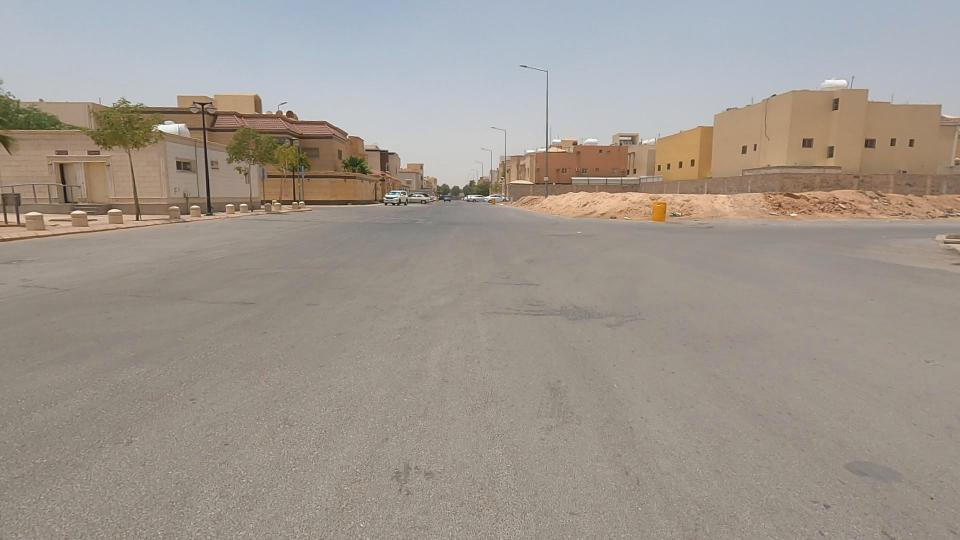SAND_ON_ROAD: (686, 170, 836, 241), (520, 167, 653, 235)
